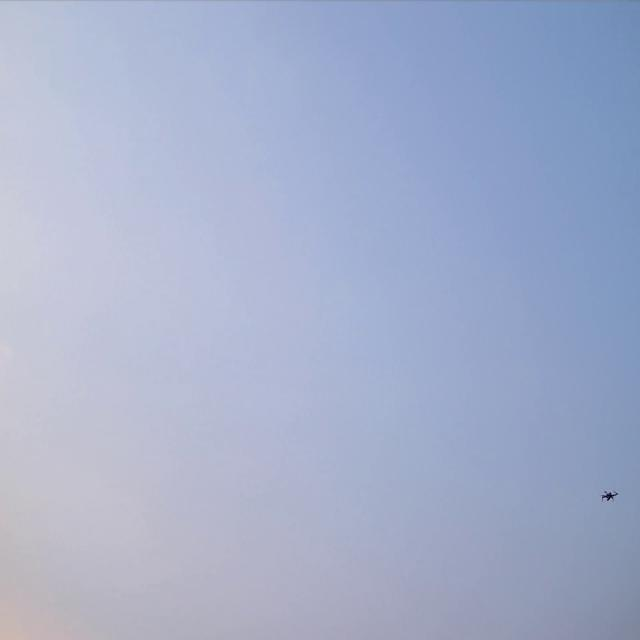UAV: (602, 491, 617, 500)
